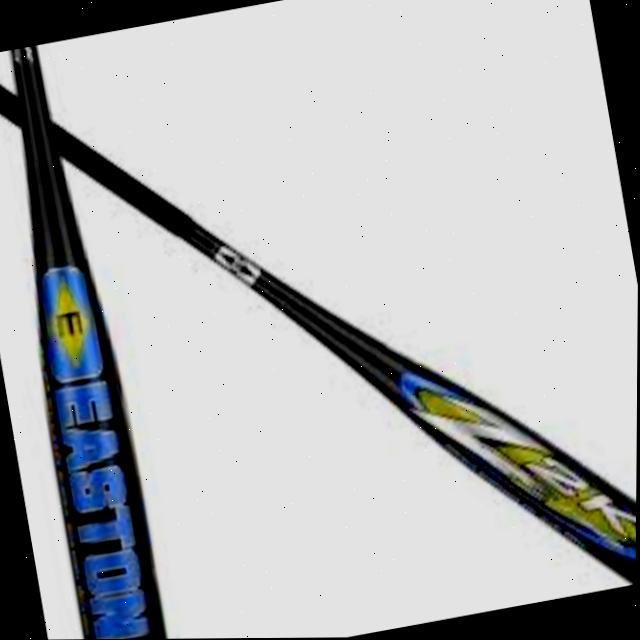baseball bat: (0, 59, 637, 585), (2, 43, 171, 640)
